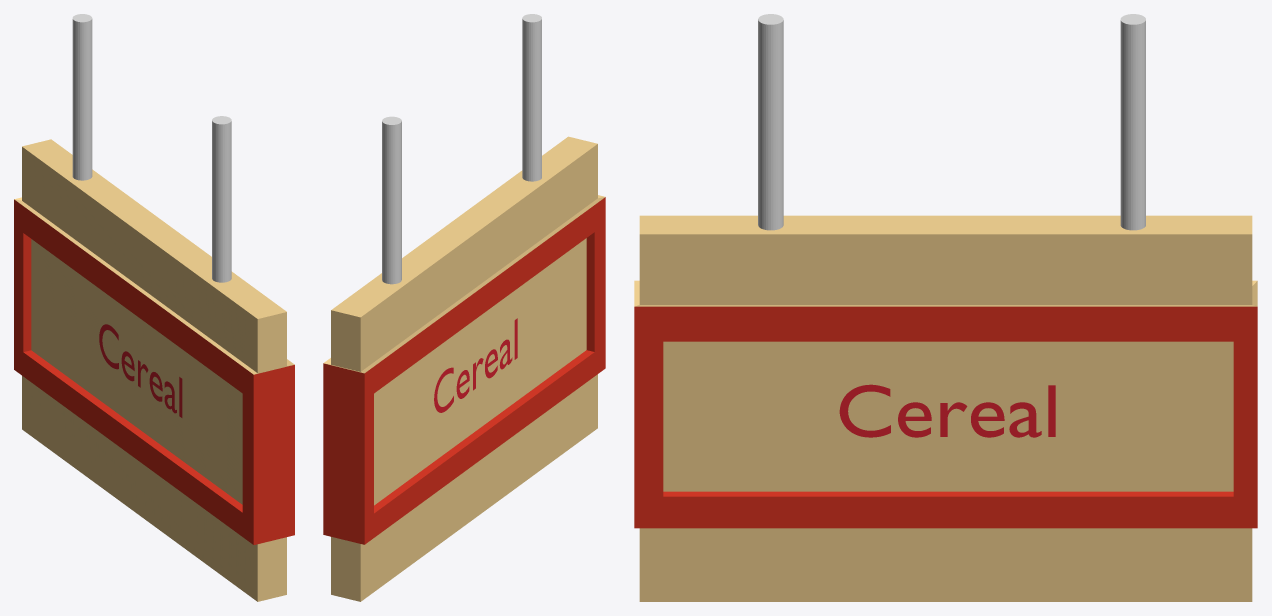
Rendered from cerealSign.fbx.
3 views of the same model, side by side, from view 1: azimuth 30°, elevation 25°; view 2: azimuth 150°, elevation 25°; view 3: azimuth 270°, elevation 25° (orthographic). The views are drawn at different scales.
Parts seen in each view (by area): view 1: baseSign, Cylinder.001, Cylinder.000, BaseText.001; view 2: baseSign, Cylinder.001, Cylinder.000, BaseText.001; view 3: baseSign, Cylinder.001, Cylinder.000, BaseText.000.
Part boxes in pixels (<box>): baseSign: <box>14,139,294,601</box>; Cylinder.001: <box>72,14,92,180</box>; Cylinder.000: <box>212,116,231,282</box>; BaseText.001: <box>99,324,182,417</box>; baseSign: <box>323,136,605,601</box>; Cylinder.001: <box>382,116,401,284</box>; Cylinder.000: <box>522,14,541,181</box>; BaseText.001: <box>434,318,517,412</box>; baseSign: <box>634,215,1257,601</box>; Cylinder.001: <box>1120,14,1145,230</box>; Cylinder.000: <box>758,14,783,230</box>; BaseText.000: <box>839,384,1055,437</box>.
Size of the model in its own units: 42.35 by 434 by 427.
